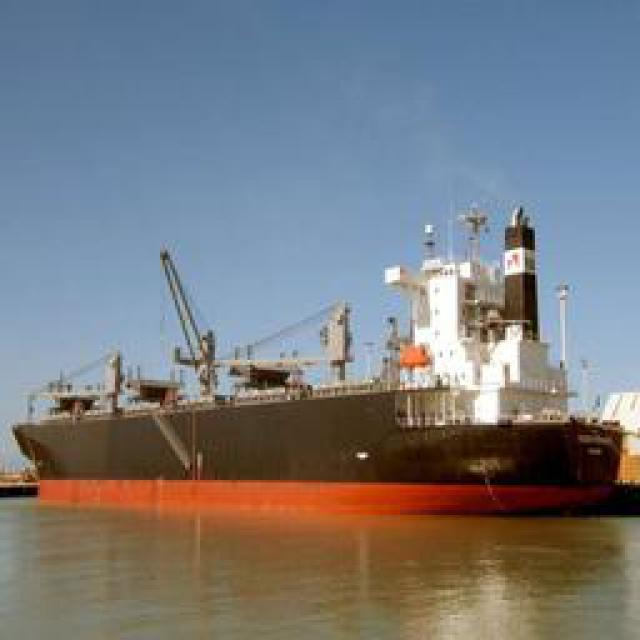Ship: (13, 216, 640, 499)
